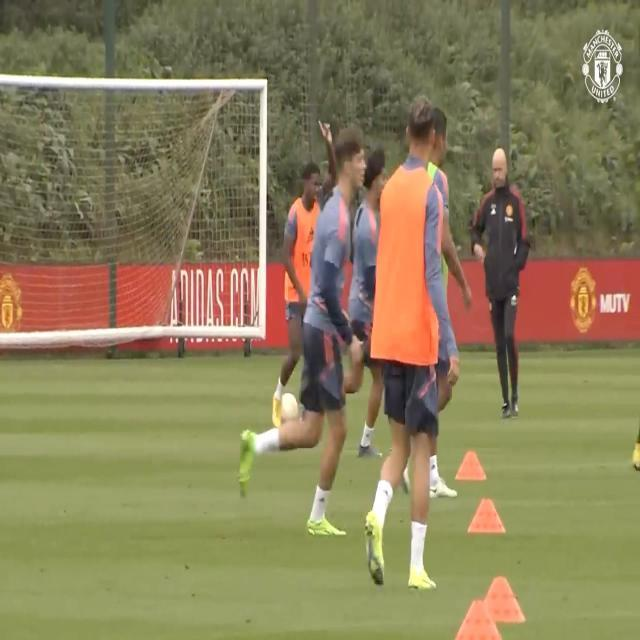Adidas: (306, 225, 317, 242)
